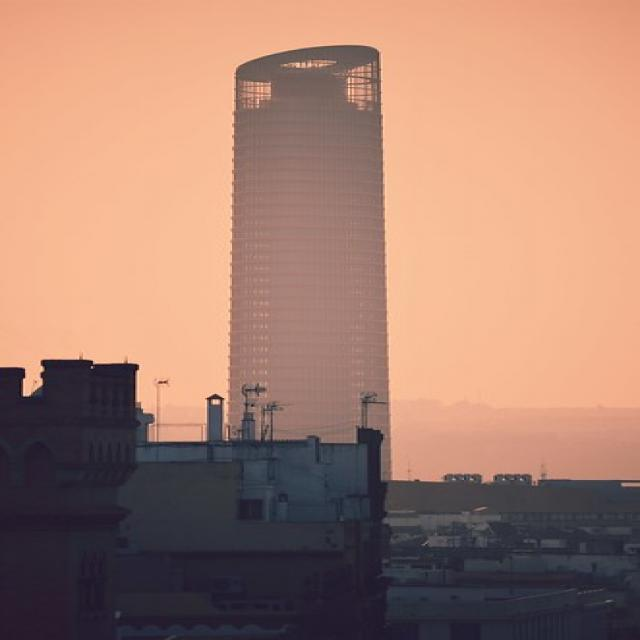Normal_building: (222, 42, 402, 498)
